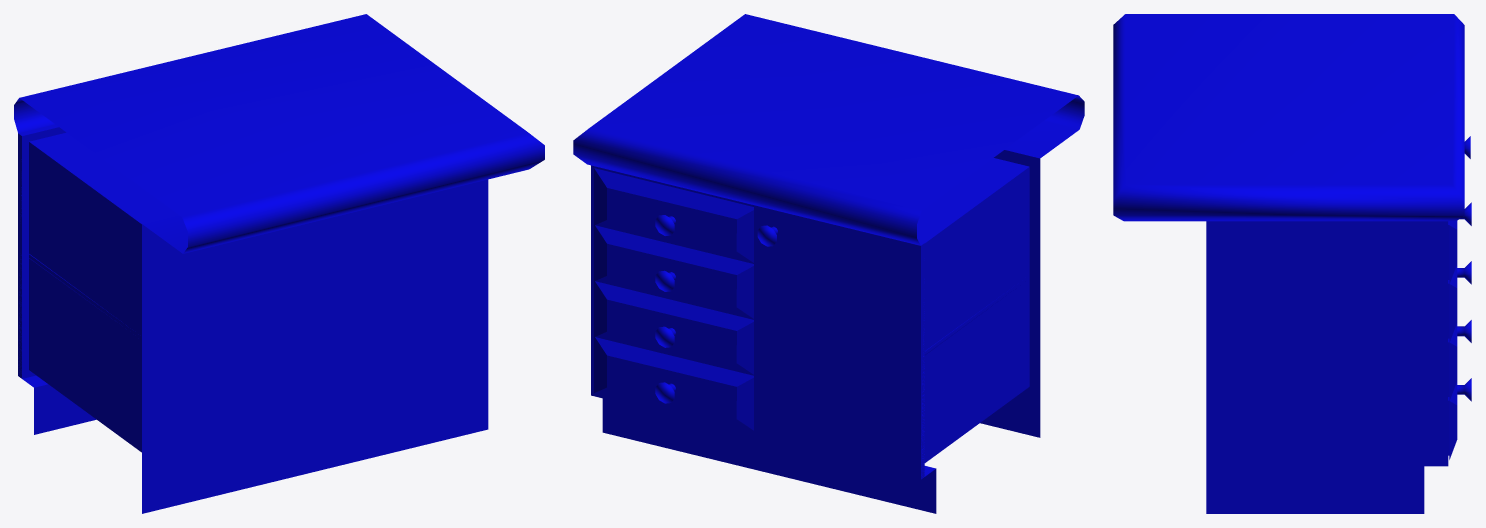
The model's file is Object_IslandCounterRight.fbx.
3 renders of one model, left to right at view 1: azimuth 30°, elevation 25°; view 2: azimuth 150°, elevation 25°; view 3: azimuth 270°, elevation 25°, orthographic. The views are drawn at different scales.
Visible parts, largest first — view 1: IslandCounterRight_Body_LOW, IslandCounterRight_RightDoor_LOW; view 2: IslandCounterRight_Body_LOW, IslandCounterRight_RightDoor_LOW, IslandCounterRight_DrawerTop_LOW, IslandCounterRight_DrawerLast_LOW, IslandCounterRight_Drawer3rd_LOW, IslandCounterRight_Drawer2nd_LOW; view 3: IslandCounterRight_Body_LOW, IslandCounterRight_Drawer3rd_LOW, IslandCounterRight_DrawerLast_LOW, IslandCounterRight_Drawer2nd_LOW, IslandCounterRight_DrawerTop_LOW.
Part boxes in pixels (box(x1,y1,x2,y2)): IslandCounterRight_Body_LOW: box(14, 14, 544, 513); IslandCounterRight_RightDoor_LOW: box(18, 124, 111, 378); IslandCounterRight_Body_LOW: box(573, 14, 1084, 513); IslandCounterRight_RightDoor_LOW: box(754, 205, 924, 479); IslandCounterRight_DrawerTop_LOW: box(594, 168, 753, 263); IslandCounterRight_DrawerLast_LOW: box(594, 337, 753, 431); IslandCounterRight_Drawer3rd_LOW: box(594, 280, 753, 375); IslandCounterRight_Drawer2nd_LOW: box(594, 225, 753, 319); IslandCounterRight_Body_LOW: box(1113, 14, 1464, 513); IslandCounterRight_Drawer3rd_LOW: box(1448, 320, 1471, 401); IslandCounterRight_DrawerLast_LOW: box(1448, 378, 1471, 459); IslandCounterRight_Drawer2nd_LOW: box(1448, 261, 1471, 342); IslandCounterRight_DrawerTop_LOW: box(1448, 202, 1471, 284).
Bounding box in the file's own units: 1.03 × 0.9 × 0.8878.
